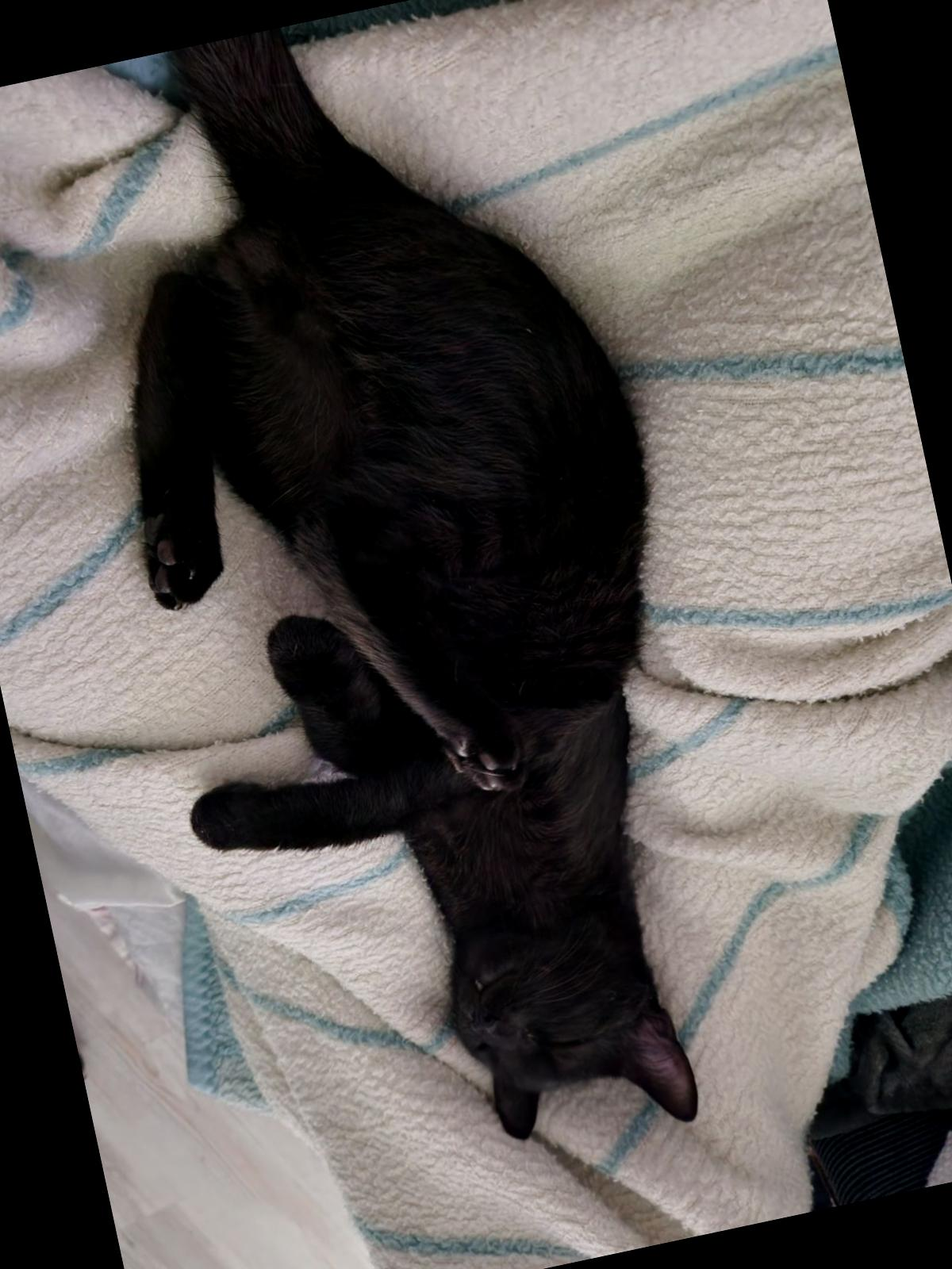macka: (39, 0, 781, 1208)
